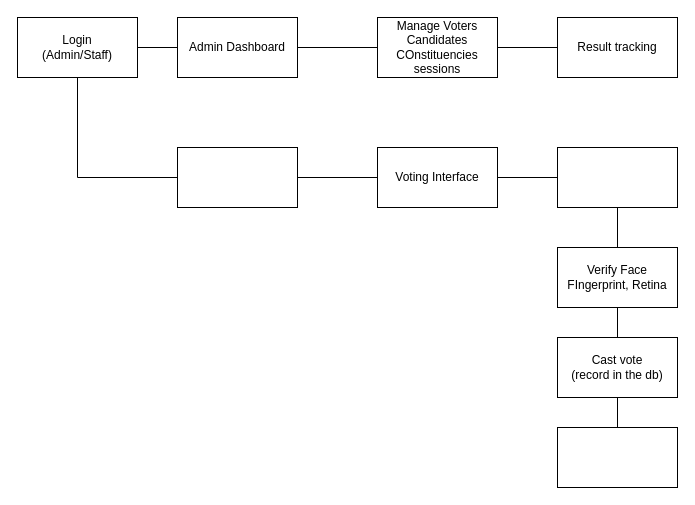
Some shapes in this 695 by 505 pixel diagram are drawn without their labels. Here are the shapes that lost their labels. From the top down, the centre of each, then its label:
the point at 237,177: Staff Dashbaord
the point at 617,177: Biometric Verification
the point at 617,457: email confirmation
